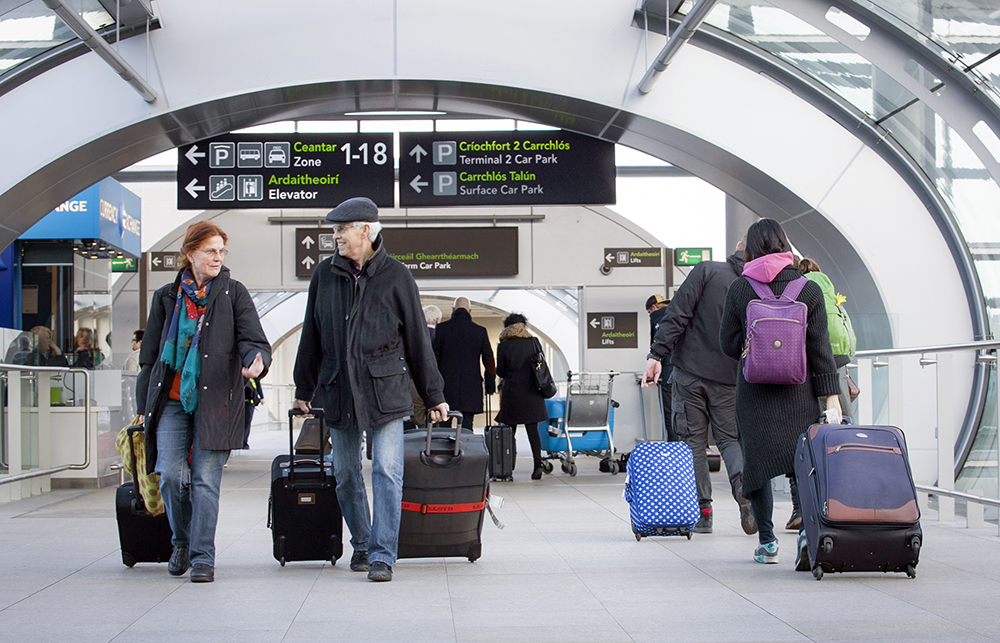backpack: (800, 263, 859, 377)
bag: (728, 271, 825, 392)
luggage: (790, 405, 933, 592), (393, 406, 495, 572), (265, 402, 352, 572), (620, 381, 705, 546), (105, 430, 198, 570), (482, 392, 516, 485)
people: (287, 195, 463, 600), (714, 219, 871, 573), (133, 217, 278, 594), (433, 295, 502, 454), (493, 321, 557, 488)
